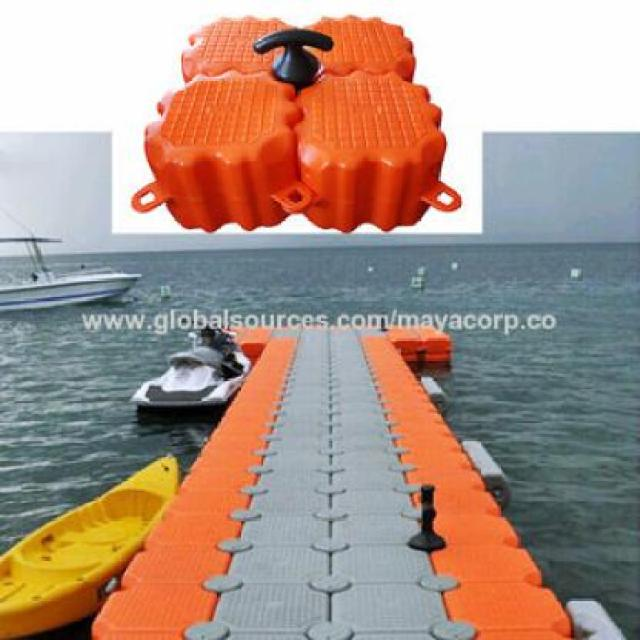a: (130, 8, 474, 231), (227, 410, 492, 636), (372, 492, 568, 639), (172, 508, 333, 639), (246, 367, 394, 506), (347, 318, 483, 426), (280, 333, 394, 441)
